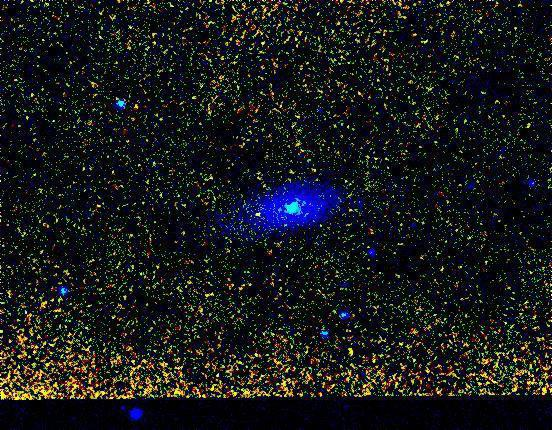star: (244, 201, 274, 231)
